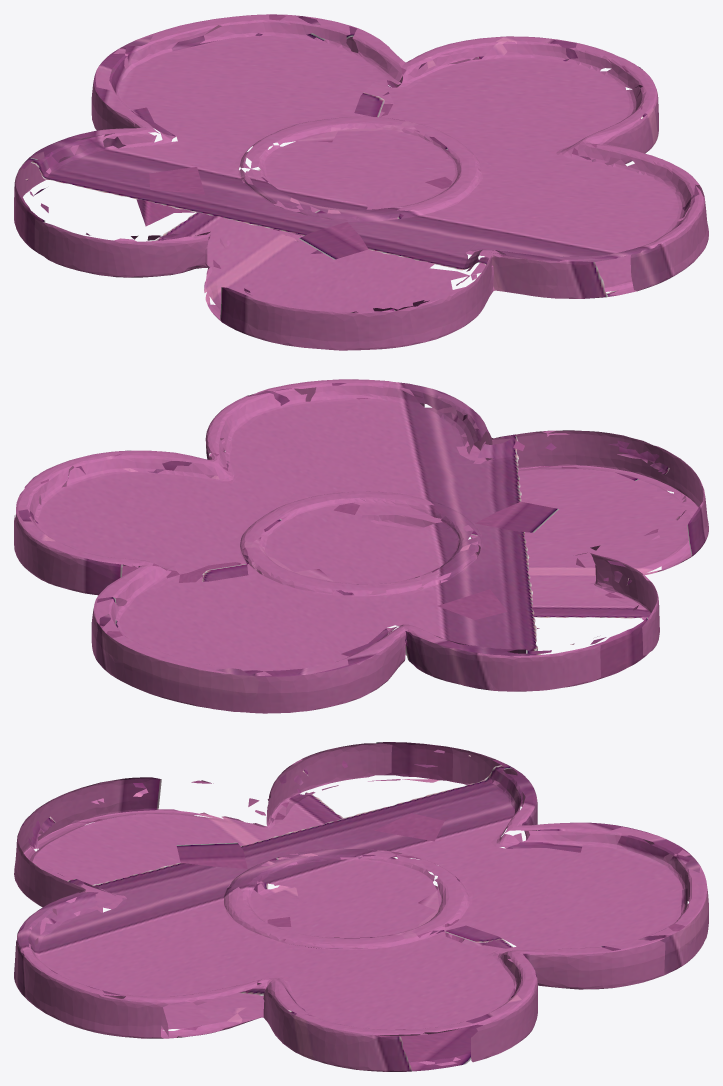
The picture shows the model from 3 angles, top to bottom: view 1: azimuth 30°, elevation 25°; view 2: azimuth 150°, elevation 25°; view 3: azimuth 270°, elevation 25°; orthographic projection.
Parts seen in each view (by area): view 1: world; view 2: world; view 3: world.
Boxes of the visible parts, x1,y1,x2,y2 form: world: (14,14,708,350); world: (14,379,708,713); world: (14,742,708,1071).
Size of the model in its own units: 99.94 by 6.82 by 99.35.
